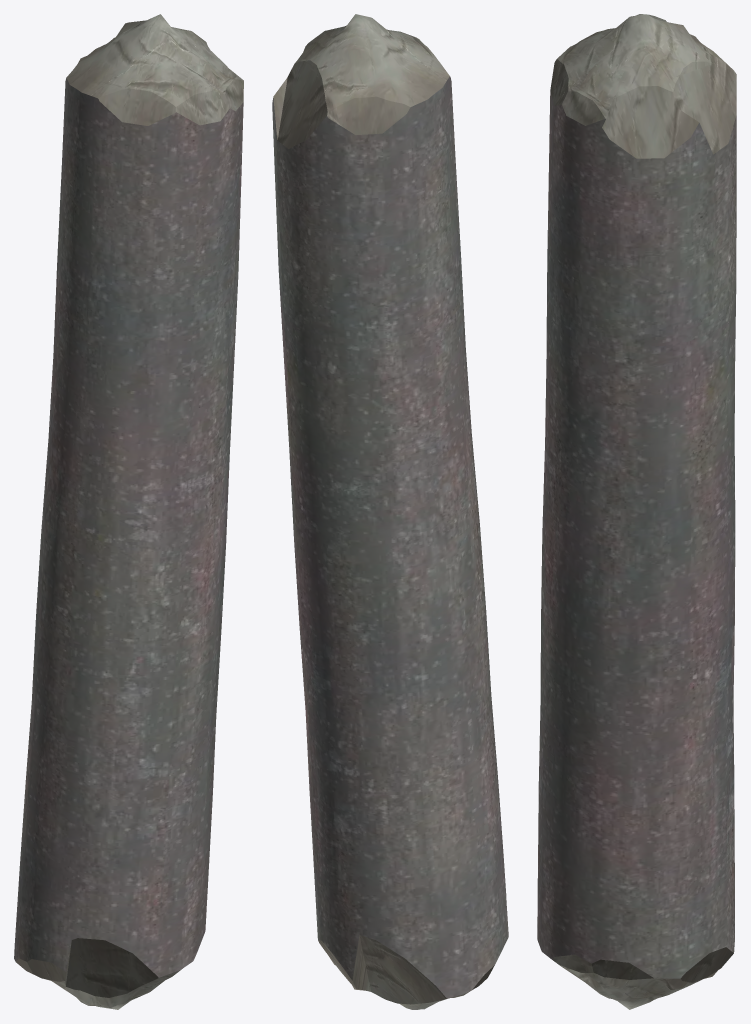
3 views of the same model, side by side, from view 1: azimuth 30°, elevation 25°; view 2: azimuth 150°, elevation 25°; view 3: azimuth 270°, elevation 25° (orthographic). The views are drawn at different scales.
Visible parts, largest first — view 1: SM_GF_Ash_Tree_02_quarter_04_LOD0; view 2: SM_GF_Ash_Tree_02_quarter_04_LOD0; view 3: SM_GF_Ash_Tree_02_quarter_04_LOD0.
Boxes of the visible parts, bbox=[...] form: SM_GF_Ash_Tree_02_quarter_04_LOD0: bbox=[14, 14, 243, 1009]; SM_GF_Ash_Tree_02_quarter_04_LOD0: bbox=[272, 14, 508, 1009]; SM_GF_Ash_Tree_02_quarter_04_LOD0: bbox=[537, 14, 736, 1009].
Bounding box in the file's own units: 0.4736 × 2.14 × 0.3789.
Materials: 1 (1 with a texture image).
